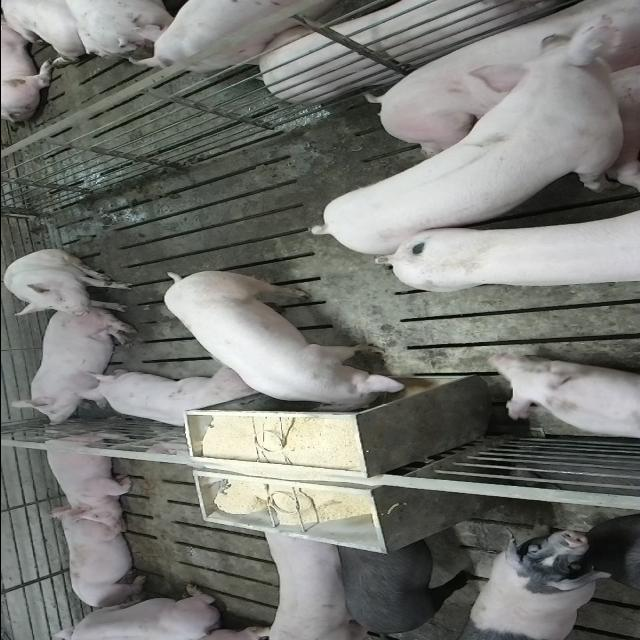Feeding: (157, 267, 409, 415)
Lateral_lying: (360, 0, 640, 174), (251, 2, 545, 106)
Sitting: (0, 248, 134, 320)
Standing: (300, 18, 620, 256), (368, 212, 640, 294), (332, 524, 486, 640), (454, 530, 615, 640), (115, 0, 334, 79), (258, 499, 369, 640)
Sternal_lying: (12, 306, 134, 428), (482, 348, 640, 441), (72, 366, 262, 428), (34, 424, 140, 530), (48, 510, 156, 606), (48, 585, 218, 640)
